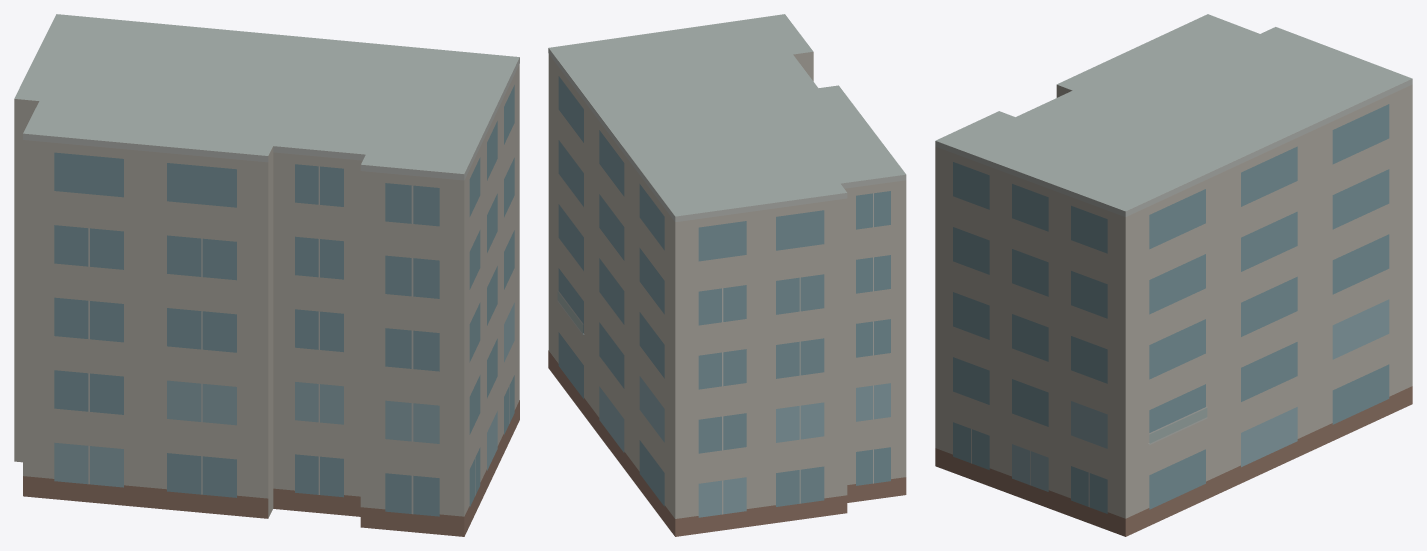
Rendered from survey-upis-32968023.glb.
The picture shows the model from 3 angles, left to right: view 1: azimuth 30°, elevation 25°; view 2: azimuth 150°, elevation 25°; view 3: azimuth 270°, elevation 25°; orthographic projection. The views are drawn at different scales.
Parts seen in each view (by area): view 1: survey-upis-32968023.tmp; view 2: survey-upis-32968023.tmp; view 3: survey-upis-32968023.tmp.
Part boxes in pixels (x1,y1,x2,y2): survey-upis-32968023.tmp: (14,14,519,536); survey-upis-32968023.tmp: (548,14,906,536); survey-upis-32968023.tmp: (935,14,1412,536).
Bounding box in the file's own units: 18.1 × 13.9 × 18.49.
